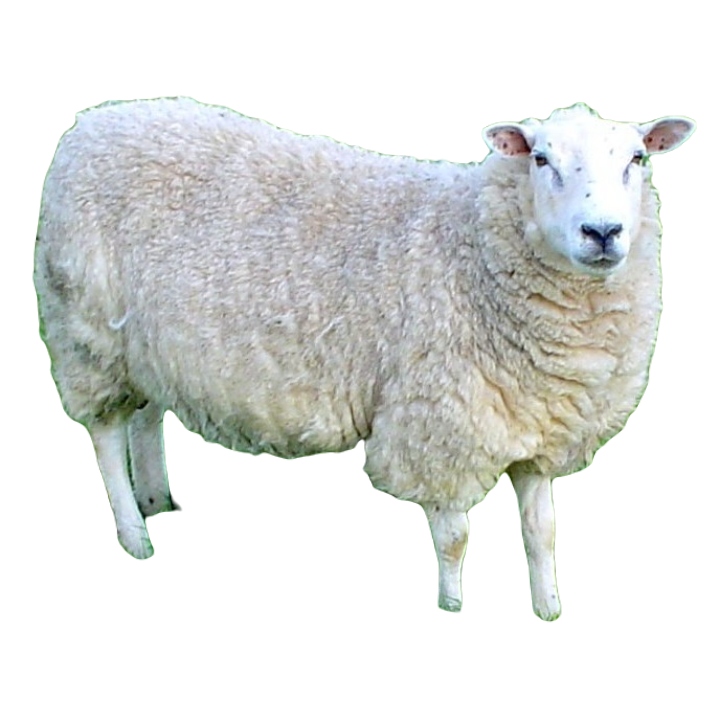Sheep: (29, 101, 702, 624)
